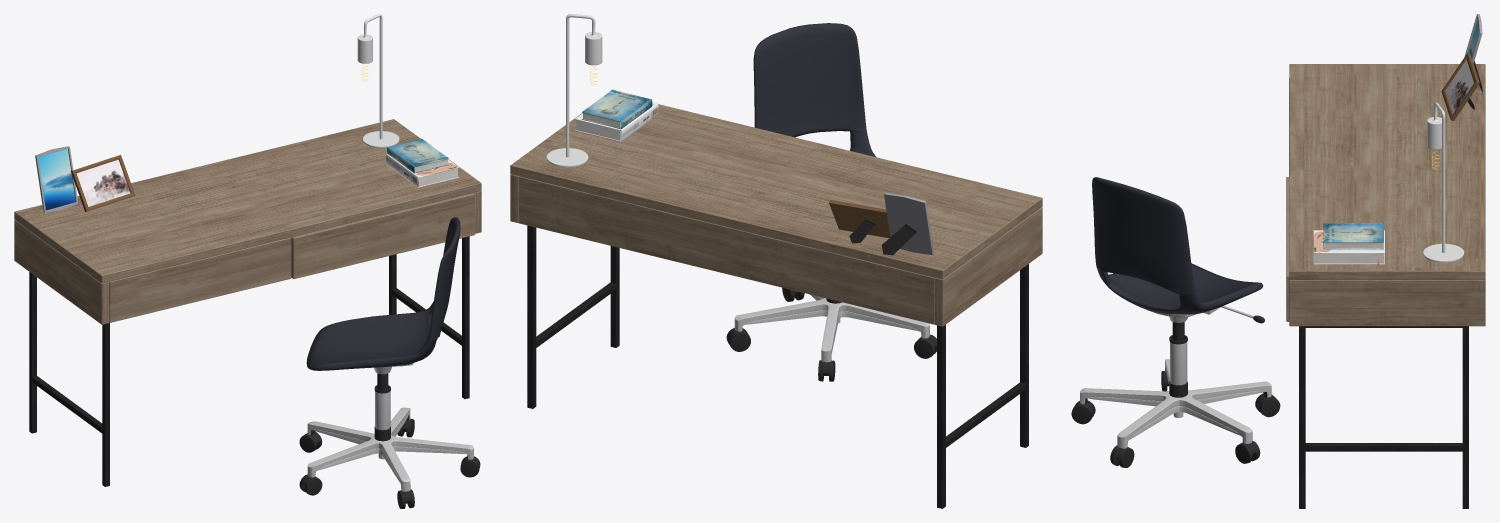
Rendered from desk_set.glb.
3 views of the same model, side by side, from view 1: azimuth 30°, elevation 25°; view 2: azimuth 150°, elevation 25°; view 3: azimuth 270°, elevation 25° (orthographic). The views are drawn at different scales.
Visible parts, largest first — view 1: Desk, Office-Chair_Office-Chair_0, Desk-Door_02_Desk_0, Desk-Door_01_Desk_0, Photography_Type1, Photography_Type2, Table-Lamp_Table-Lamp_0, Book-Type2, Book-Type1; view 2: Desk, Office-Chair_Office-Chair_0, Photography_Type2, Table-Lamp_Table-Lamp_0, Photography_Type1, Book-Type2, Book-Type1; view 3: Desk, Office-Chair_Office-Chair_0, Table-Lamp_Table-Lamp_0, Book-Type2, Photography_Type1, Book-Type1, Desk-Door_01_Desk_0, Photography_Type2.
Boxes of the visible parts, x1,y1,x2,y2 form: Desk: (14,119,481,486); Office-Chair_Office-Chair_0: (299,217,480,508); Desk-Door_02_Desk_0: (109,237,291,322); Desk-Door_01_Desk_0: (291,193,474,278); Photography_Type1: (71,155,135,211); Photography_Type2: (35,146,78,212); Table-Lamp_Table-Lamp_0: (357,14,399,147); Book-Type2: (387,138,448,173); Book-Type1: (385,154,459,187); Desk: (510,104,1042,508); Office-Chair_Office-Chair_0: (726,23,936,381); Photography_Type2: (881,192,933,255); Table-Lamp_Table-Lamp_0: (546,14,602,167); Photography_Type1: (829,199,890,243); Book-Type2: (582,89,652,129); Book-Type1: (575,102,658,142); Desk: (1289,64,1485,508); Office-Chair_Office-Chair_0: (1071,177,1280,467); Table-Lamp_Table-Lamp_0: (1423,102,1464,262); Book-Type2: (1323,223,1383,249); Photography_Type1: (1441,53,1479,121); Book-Type1: (1313,230,1384,264); Desk-Door_01_Desk_0: (1286,177,1289,321); Photography_Type2: (1464,14,1482,91).
Bounding box in the file's own units: 1500 × 1296 × 1266.
Materials: 8 (8 with a texture image).
